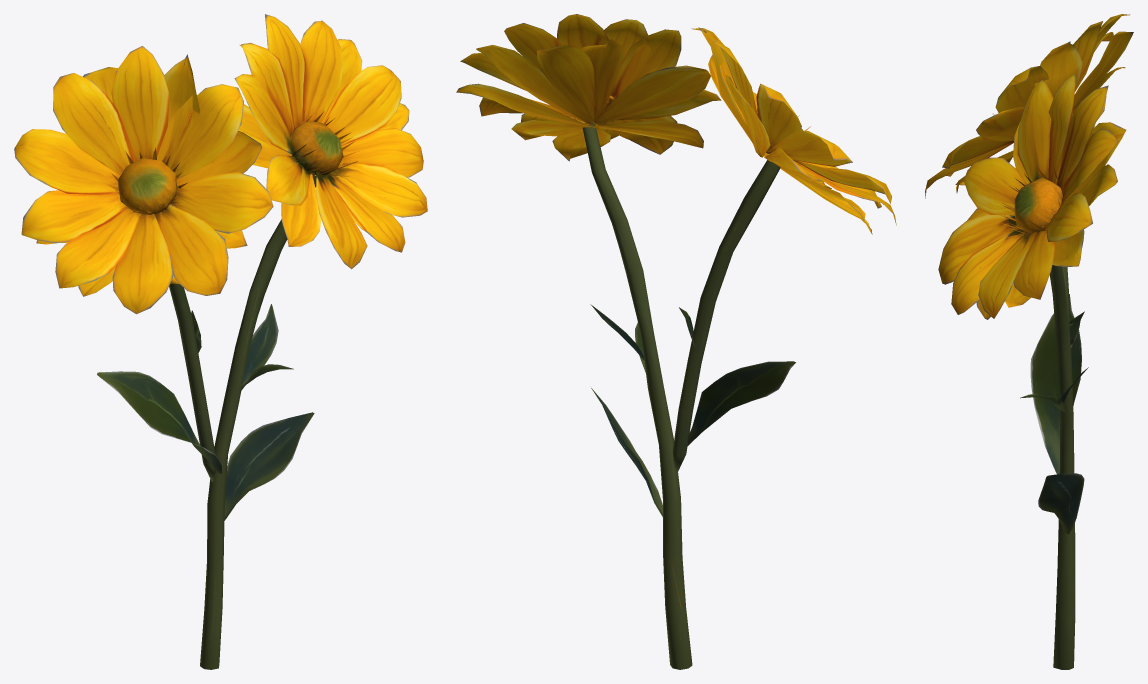
Rendered from obj_flower_yellow.glb.
The picture shows the model from 3 angles, left to right: view 1: azimuth 30°, elevation 25°; view 2: azimuth 150°, elevation 25°; view 3: azimuth 270°, elevation 25°; orthographic projection. The views are drawn at different scales.
Parts seen in each view (by area): view 1: geometry_0; view 2: geometry_0; view 3: geometry_0.
Boxes of the visible parts, <box> form: geometry_0: <box>14,14,427,669</box>; geometry_0: <box>456,14,896,669</box>; geometry_0: <box>925,14,1133,669</box>.
Size of the model in its own units: 0.6465 by 0.9531 by 0.291.
Materials: 1 (1 with a texture image).
